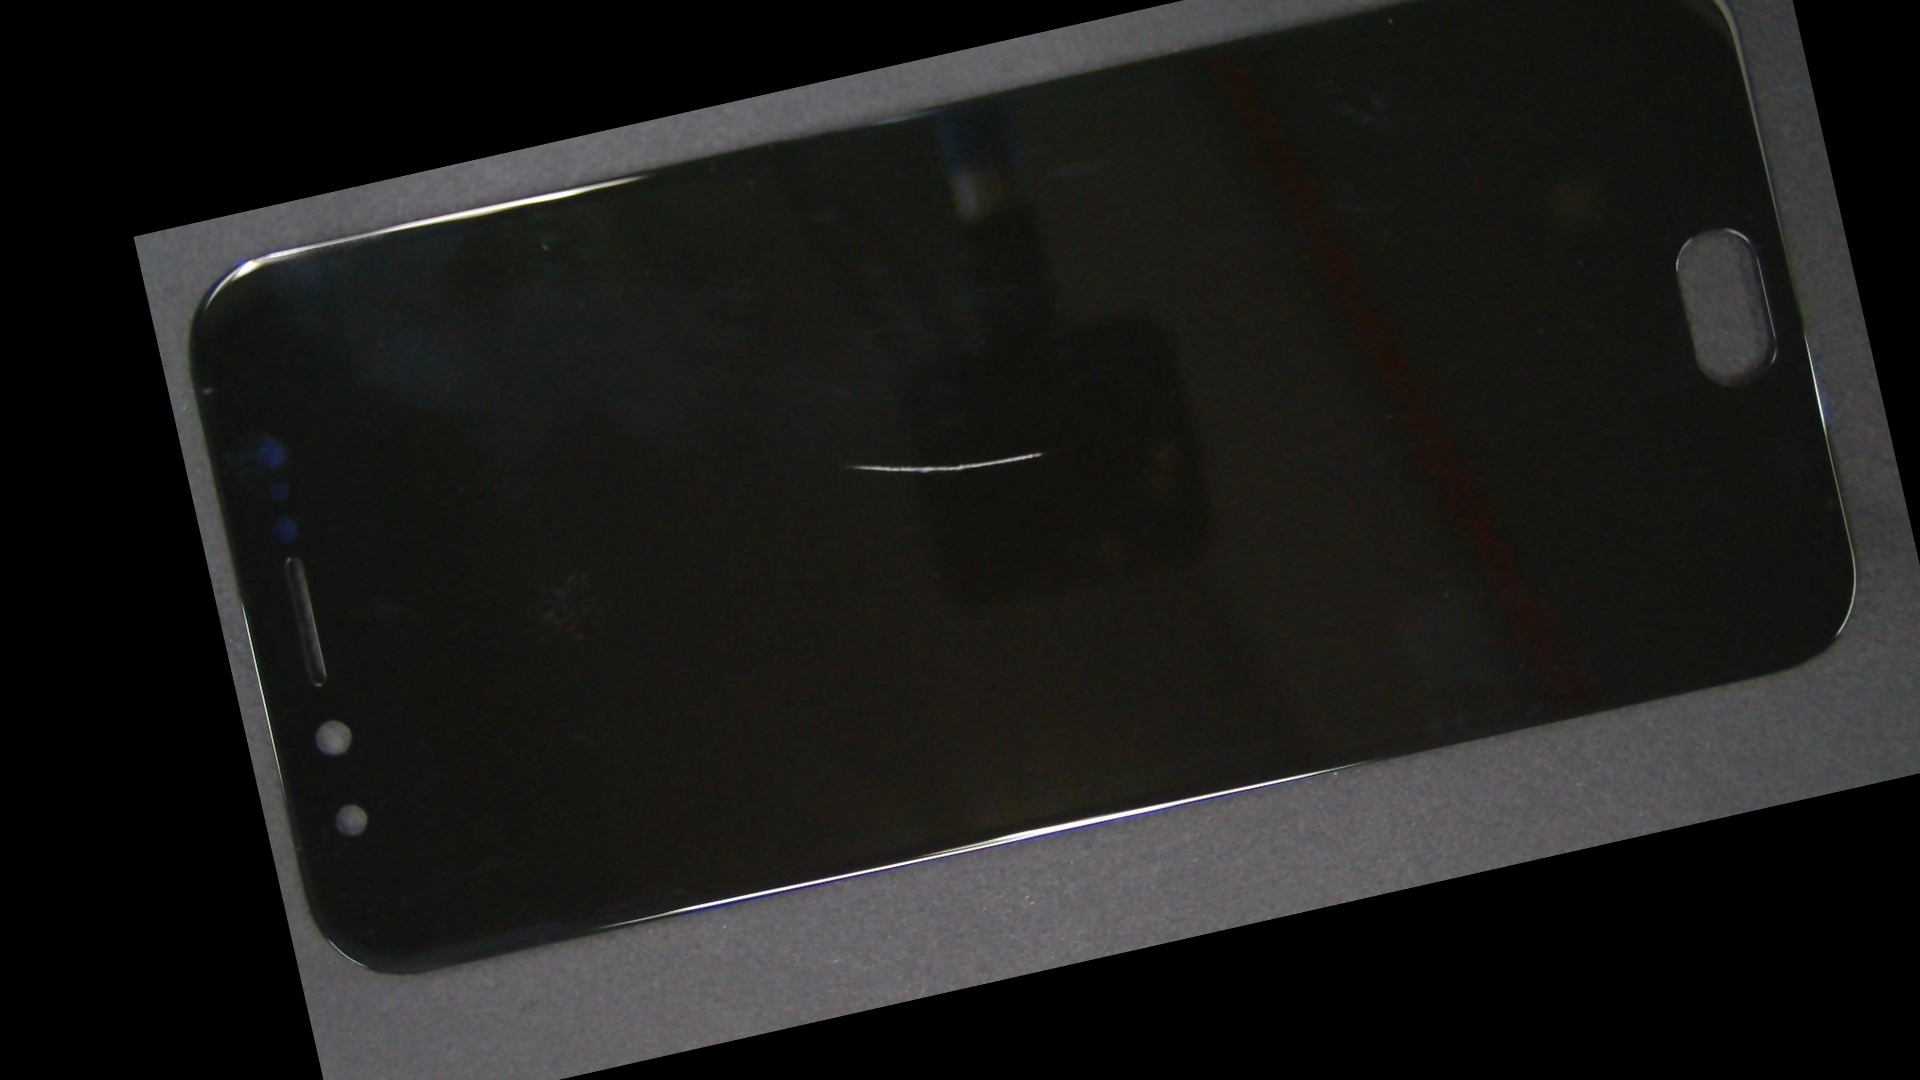oil: (492, 208, 1207, 724)
